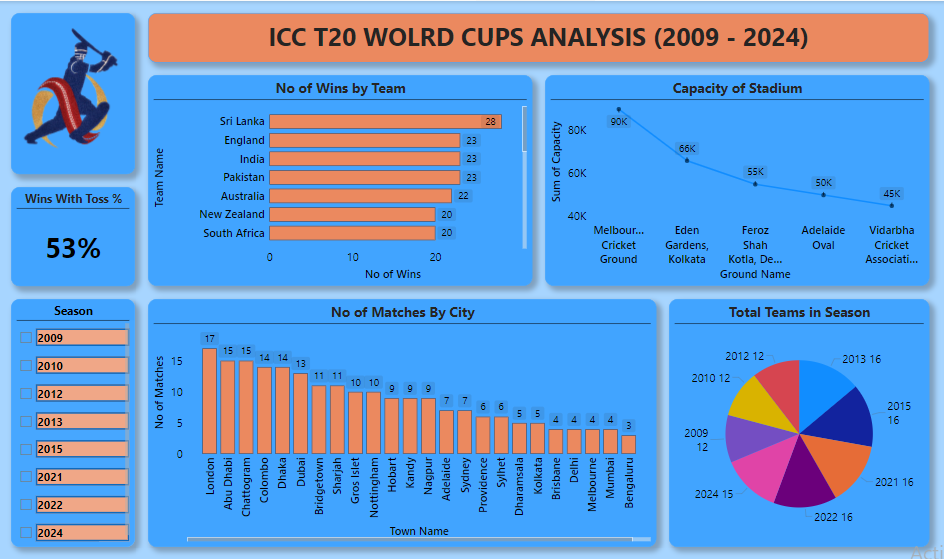

What the dashboard file says about the page in this screenshot:
{"tool":"powerbi","page":{"name":"WCs Details","canvas":[1830,1080],"ordinal":0},"visuals":[{"type":"lineChart","title":"Capacity of Stadium","fields":{"Category":["ground.Ground Name"],"Y":["Sum(ground.Capacity)"]},"box":[1056,144,744,408],"z":0},{"type":"columnChart","title":"No of Matches By City","fields":{"Y":["matches.No of Matches"],"Category":["town.Town Name"]},"box":[288,576,984,480],"z":1000},{"type":"clusteredBarChart","title":"No of Wins by Team","fields":{"Y":["Sum(No of Wins.No of wins)"],"Category":["No of Wins.Won_team"]},"box":[288,144,744,408],"z":2000},{"type":"pieChart","title":"Total Teams in Season","fields":{"Category":["season.season"],"Y":["Sum(season.totalSquads)"]},"box":[1296,576,504,480],"z":3000},{"type":"slicer","title":"Season","fields":{"Values":["season.season"]},"box":[24,576,240,480],"z":4000},{"type":"card","title":"Wins With Toss %","fields":{"Values":["matches.No_of_wins_with_toss_percentage"]},"box":[24,360,240,192],"z":5000},{"type":"textbox","box":[288,24,1512,96],"z":6000},{"type":"image","box":[24,24,240,312],"z":7000}]}

Visuals, with their boxes in screenshot pixels (x1, y1, x2, y2), scaled from the page's 1830x1080 canvas onto the 944x559 screenshot:
"Capacity of Stadium" lineChart: pyautogui.locateOnScreen(545, 75, 929, 286)
"No of Matches By City" columnChart: pyautogui.locateOnScreen(149, 298, 656, 547)
"No of Wins by Team" clusteredBarChart: pyautogui.locateOnScreen(149, 75, 532, 286)
"Total Teams in Season" pieChart: pyautogui.locateOnScreen(669, 298, 929, 547)
"Season" slicer: pyautogui.locateOnScreen(12, 298, 136, 547)
"Wins With Toss %" card: pyautogui.locateOnScreen(12, 186, 136, 286)
textbox: pyautogui.locateOnScreen(149, 12, 929, 62)
image: pyautogui.locateOnScreen(12, 12, 136, 174)
